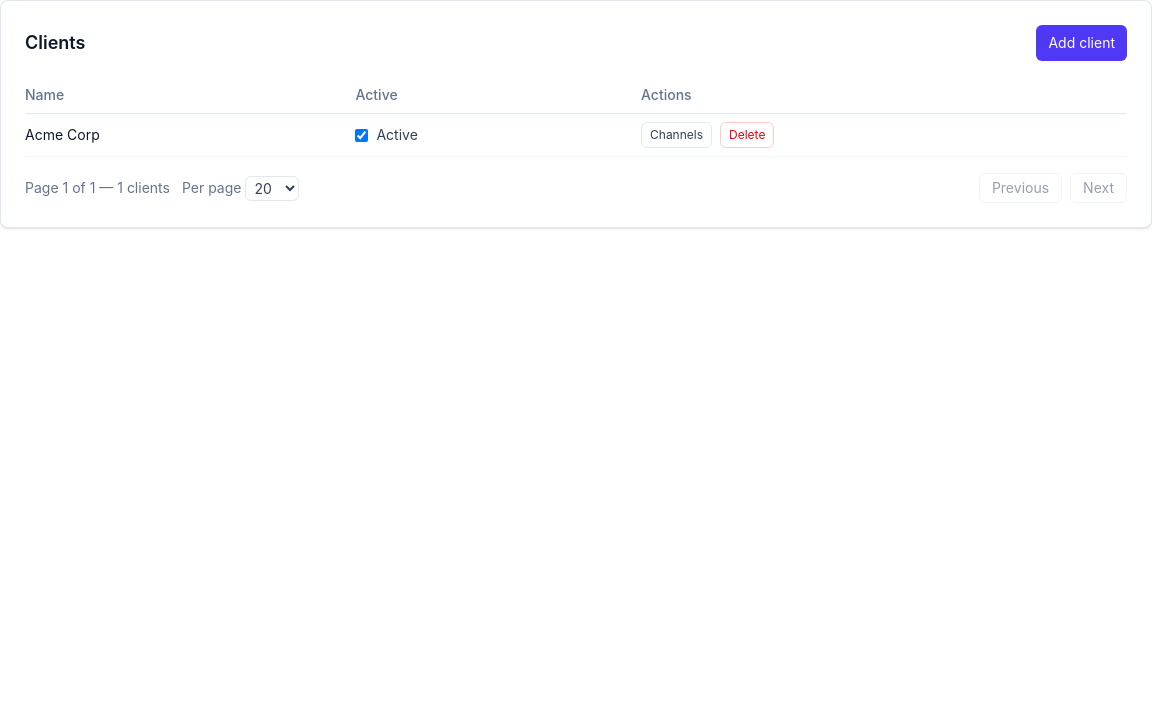
Test: FE-CHN-TEST: telegram channel test connection › POSTs /clients/:clientId/channels/:id/test and surfaces a green OK
Click the button "Channels" at (676, 135), box [641,122,712,148]
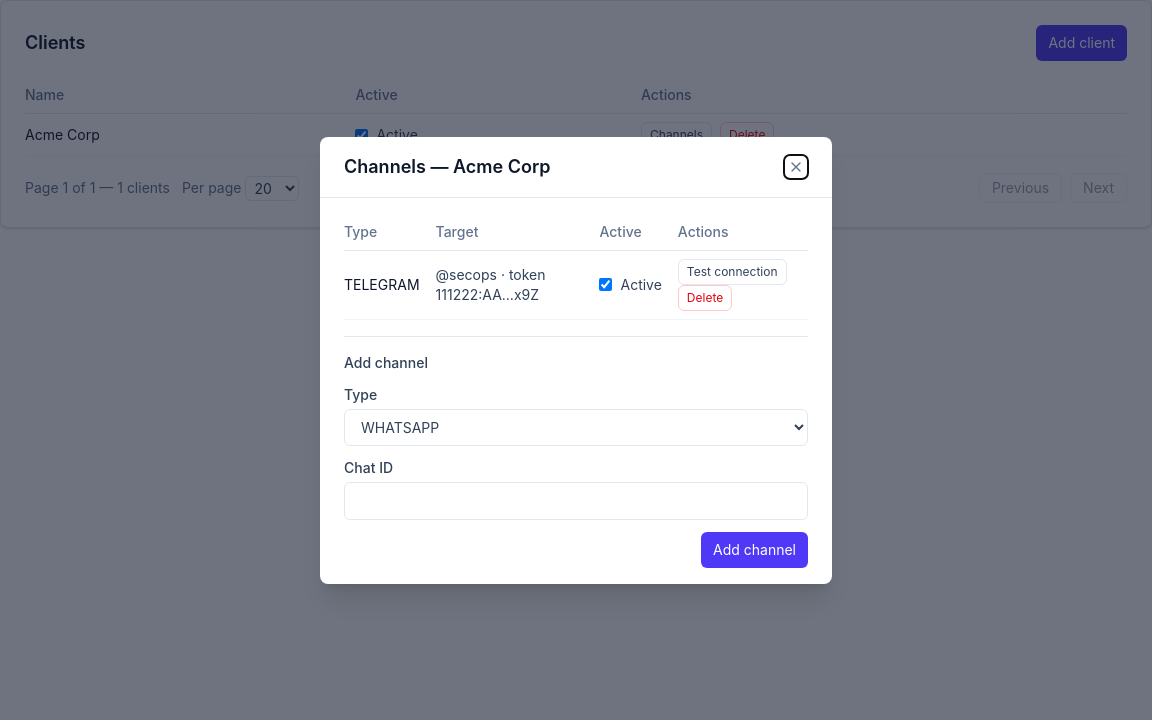
expect the button "Add channel" is shown: met, box [701,532,808,568]
expect the text "@secops" is shown: met, box [436,266,546,302]
Click the button "Test connection" at (732, 272), box [678,258,786,284]
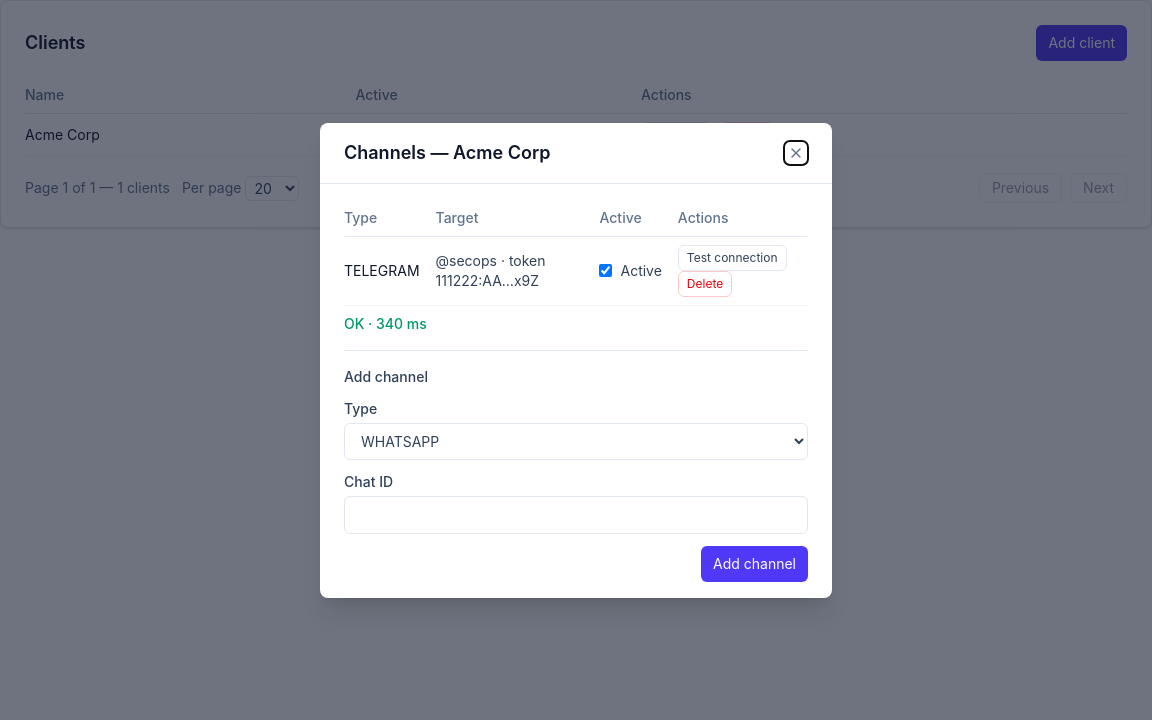
expect the text "OK · 340 ms" is shown: met, box [344,314,427,332]
